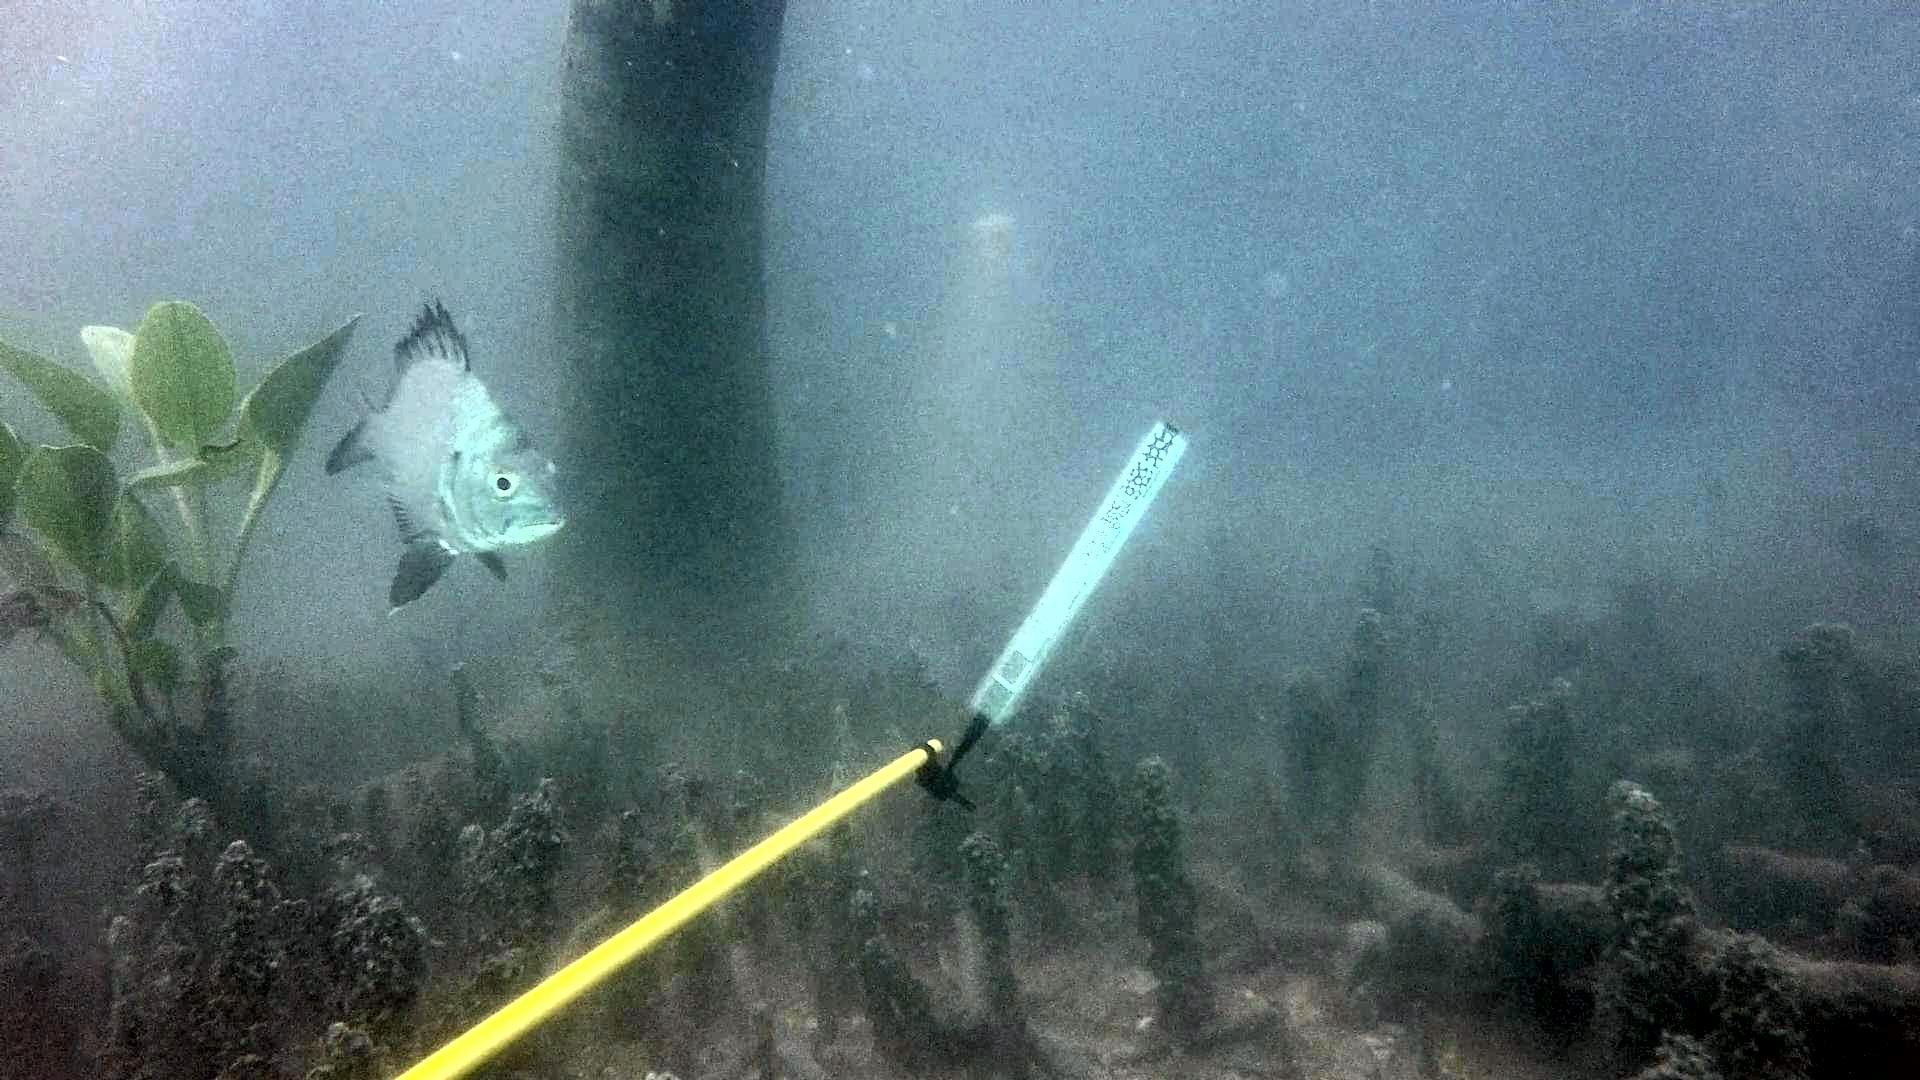acanthopagrus palmaris: (318, 290, 576, 624)
